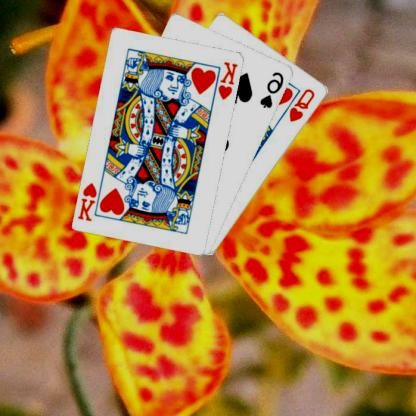6S: (260, 69, 288, 109)
KH: (78, 180, 100, 223), (218, 59, 240, 101)
QH: (288, 86, 318, 123)
